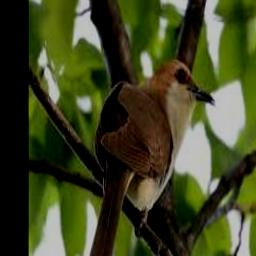Cuckoo: (88, 57, 214, 256)
